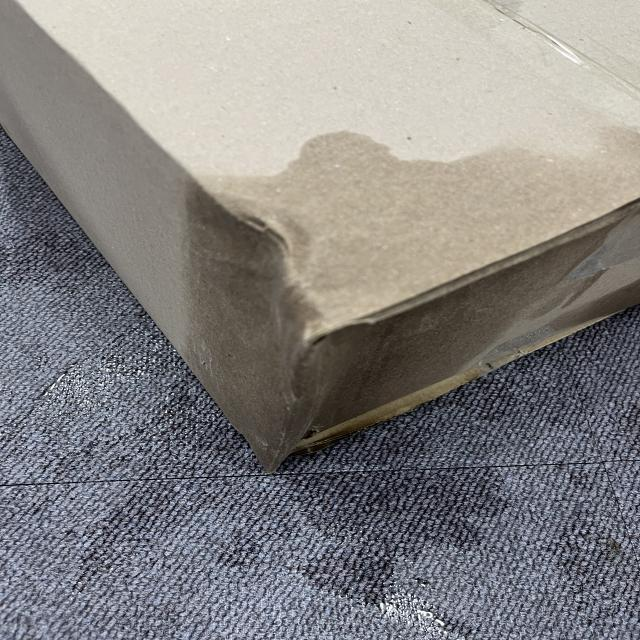wet: (180, 140, 640, 449)
